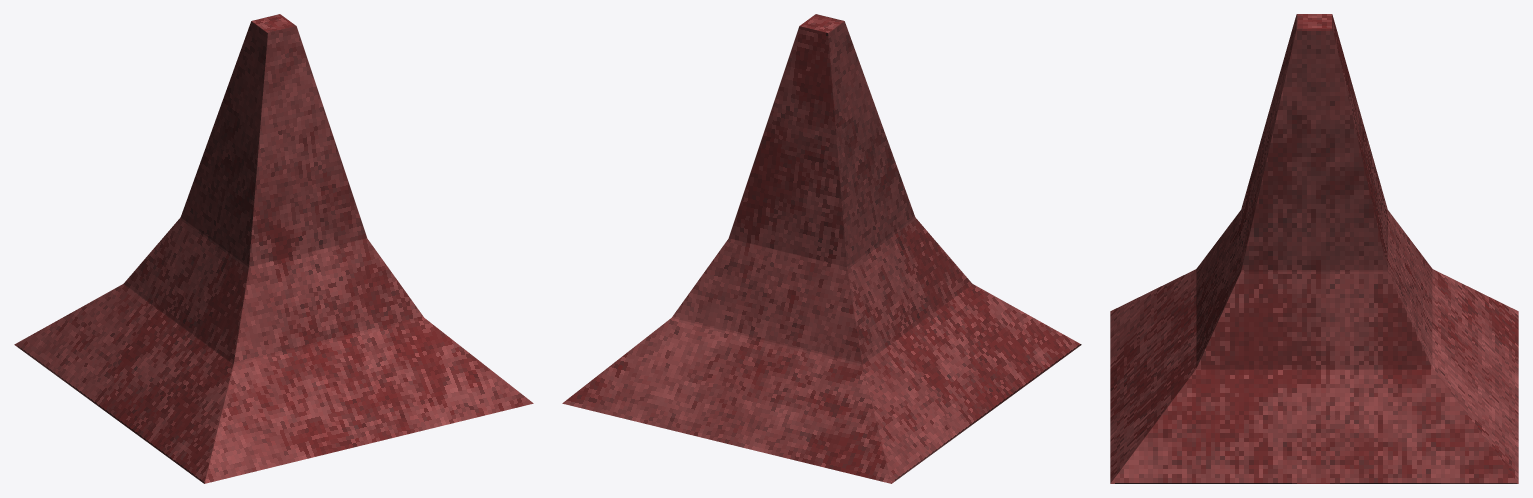
File: eye_stand.glb
3 renders of one model, left to right at view 1: azimuth 30°, elevation 25°; view 2: azimuth 150°, elevation 25°; view 3: azimuth 270°, elevation 25°, orthographic. The views are drawn at different scales.
Parts seen in each view (by area): view 1: Cube; view 2: Cube; view 3: Cube.
Part boxes in pixels (left/top/right/bottom): Cube: left=14, top=14, right=533, bottom=483; Cube: left=562, top=14, right=1081, bottom=483; Cube: left=1110, top=14, right=1518, bottom=483.
Size of the model in its own units: 2 by 2.03 by 2.
1 material, 1 textured.
